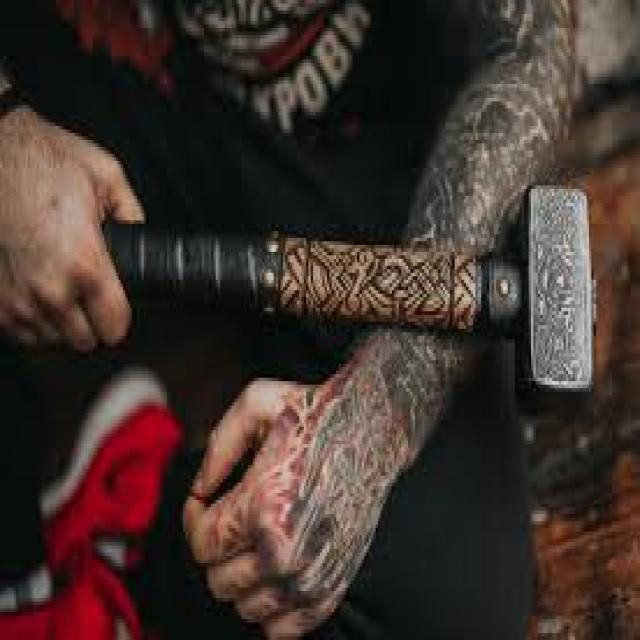hammer: (90, 178, 610, 430)
